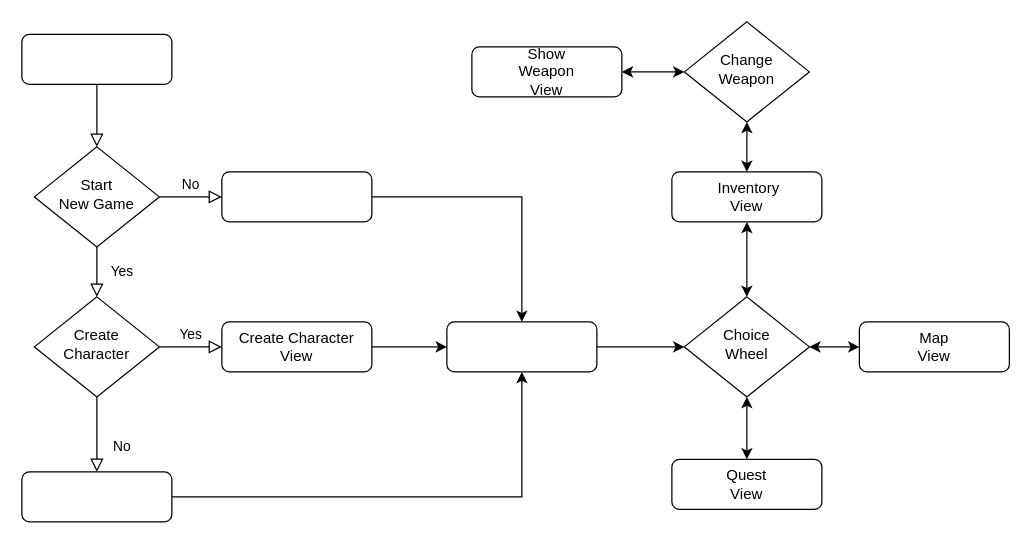
Image size: 1031x544. Some labels were removed from this diagram. The shapes that lost their labels are listed below. From the top down, each one's centre as x and y in pixels, then its label:
At point 96,58: "Main Menu".
At point 296,196: "Resume Game".
At point 521,346: "Game View".
At point 96,496: "Use premade".
